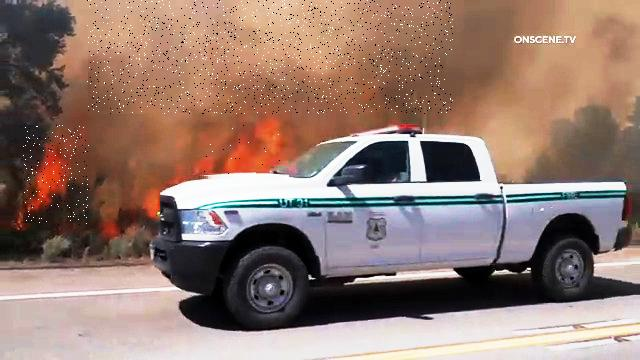fire: (23, 126, 89, 226), (191, 123, 289, 179)
smoke: (87, 0, 453, 114)
